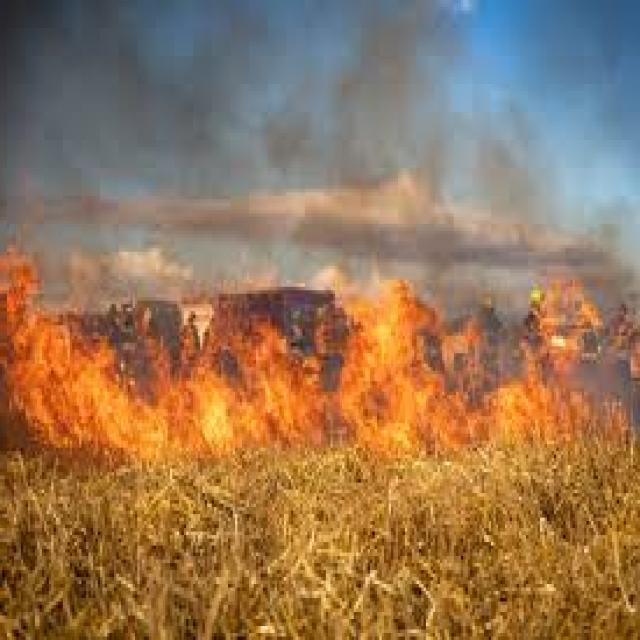fire: (9, 372, 306, 433), (352, 306, 421, 434)
